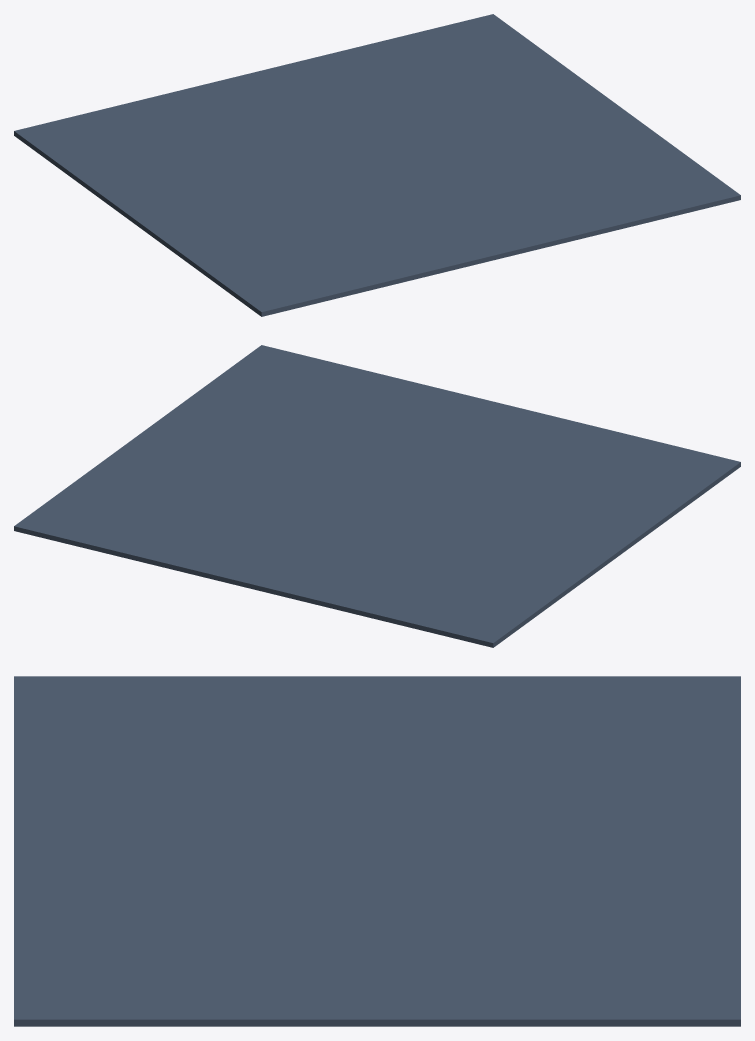
The model's file is floor_001_u_emergency_floor_01.obj.
The picture shows the model from 3 angles, top to bottom: view 1: azimuth 30°, elevation 25°; view 2: azimuth 150°, elevation 25°; view 3: azimuth 270°, elevation 25°; orthographic projection. The views are drawn at different scales.
Parts seen in each view (by area): view 1: Floor_001_u_emergency_floor_01; view 2: Floor_001_u_emergency_floor_01; view 3: Floor_001_u_emergency_floor_01.
Boxes of the visible parts, x1,y1,x2,y2 form: Floor_001_u_emergency_floor_01: [14, 14, 740, 316]; Floor_001_u_emergency_floor_01: [14, 345, 740, 647]; Floor_001_u_emergency_floor_01: [14, 676, 740, 1026].
Bounding box in the file's own units: 21.11 × 0.2 × 18.89.
